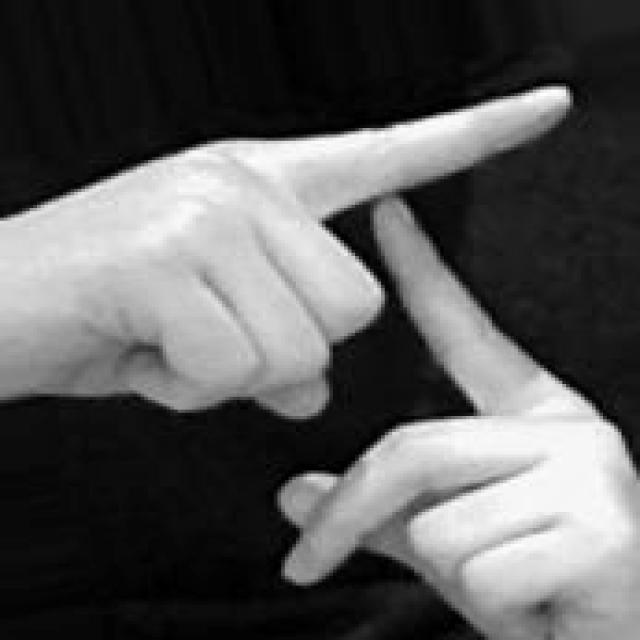T: (2, 79, 640, 640)
